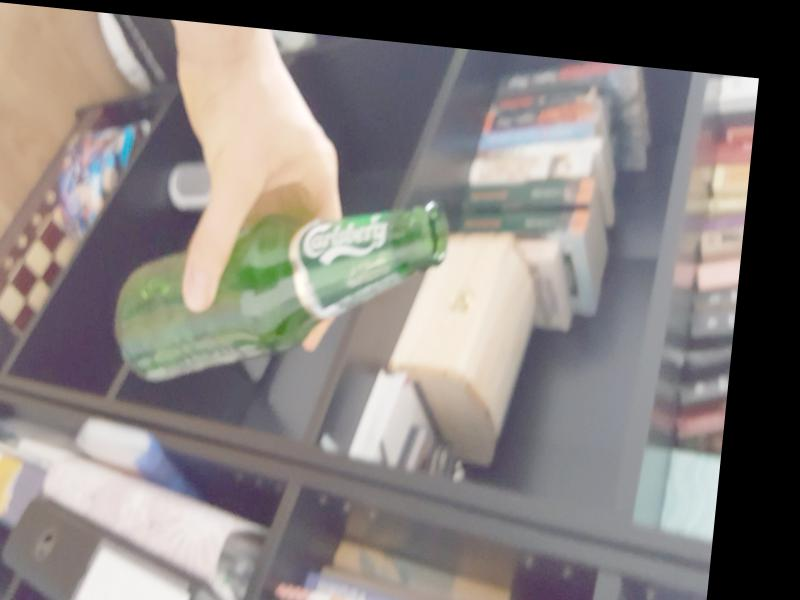Beer: (109, 175, 450, 413)
